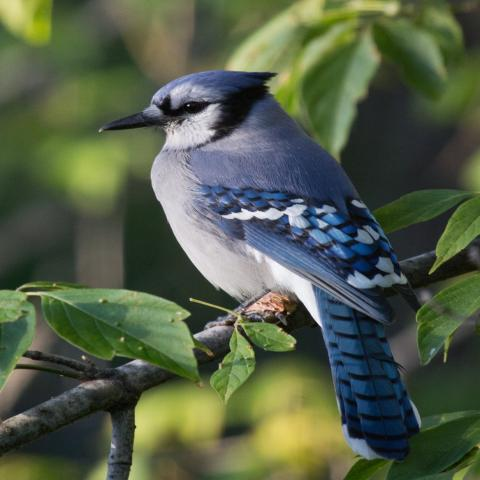bird: (96, 68, 425, 462)
